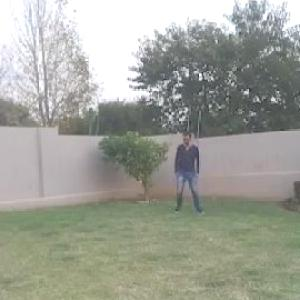follow: (173, 126, 204, 220)
